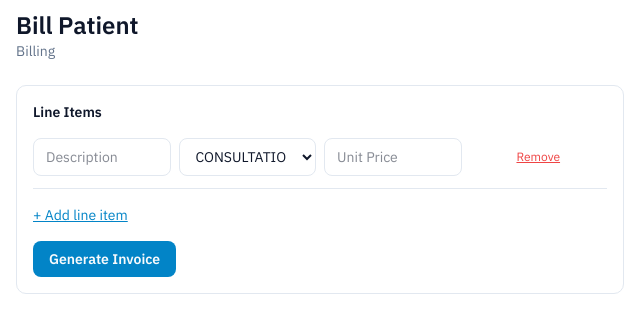
Test: BillingInvoicesPage › generates the invoice and shows the bill summary with discount applied
Step 1. Type "Consultation Fee" into the field labelled "Description" → {"x": 102, "y": 157}, box x1=33 y1=138 x2=170 y2=176
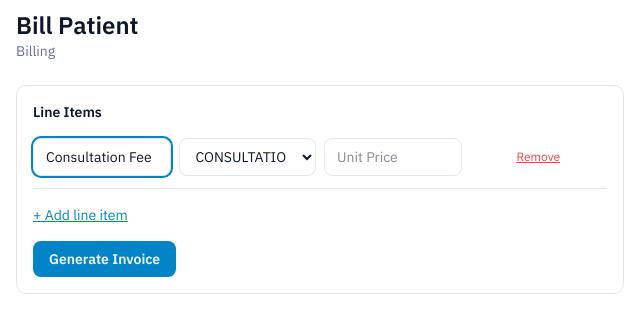
Step 2. Select "CONSULTATION" in the dropdown named "category" → {"x": 247, "y": 157}, box x1=178 y1=138 x2=316 y2=176
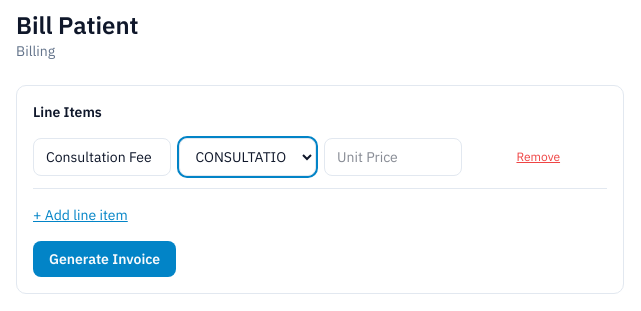
Step 3. Type "500" into the number field labelled "Unit Price" → {"x": 393, "y": 157}, box x1=324 y1=138 x2=462 y2=176
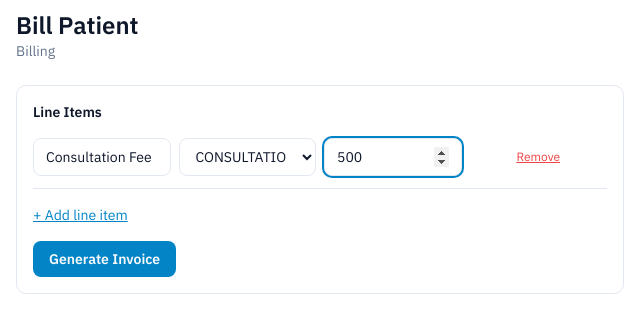
Step 4. Click the button "Generate Invoice" → {"x": 105, "y": 259}, box x1=33 y1=241 x2=176 y2=277
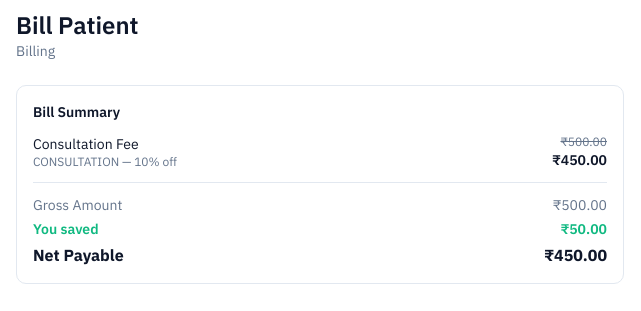
Expected: the text "Net Payable" is shown, x1=33 y1=243 x2=124 y2=267
Expected: the text "You saved" is shown, x1=33 y1=219 x2=99 y2=239
